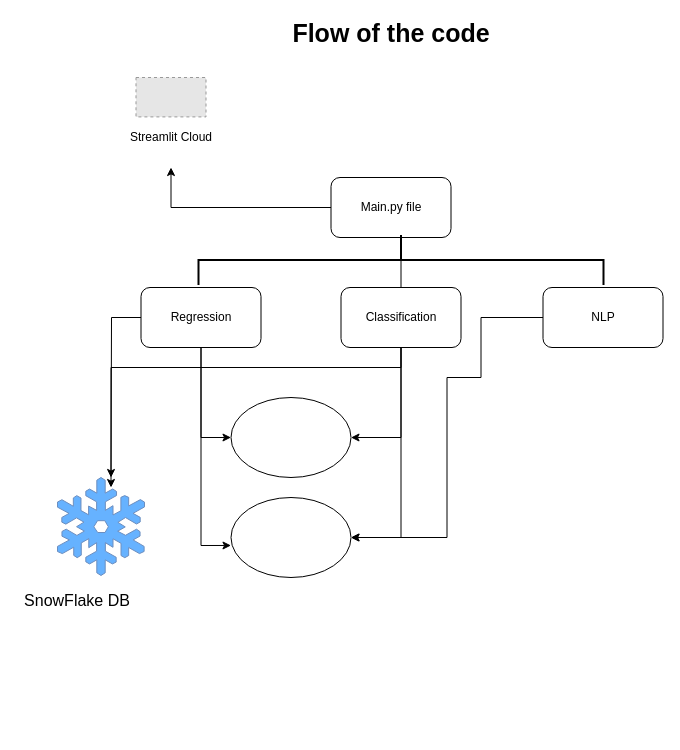
The diagram is 680 pixels wide and 750 high, and some of its shapes have lost their labels. Grey dashed boxes stand in for pictures. The centre of each missing label's shape, as x and y in pixels:
"DataProcessing file" belongs at point (290, 437).
"Load Data file" belongs at point (290, 537).
